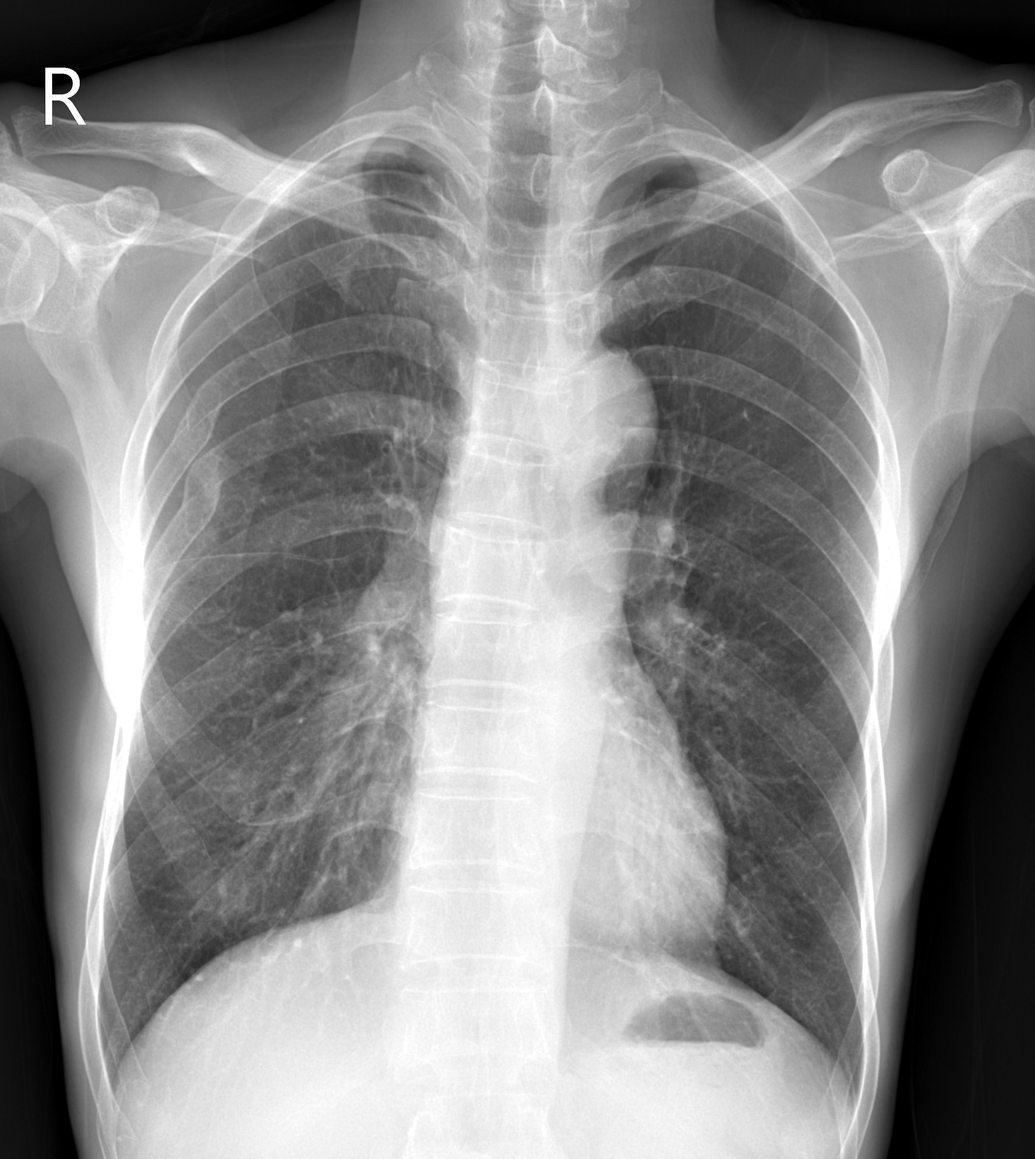Aortic enlargement: (531, 347, 659, 497)
Pleural thickening: (593, 147, 697, 240), (323, 135, 457, 171)
